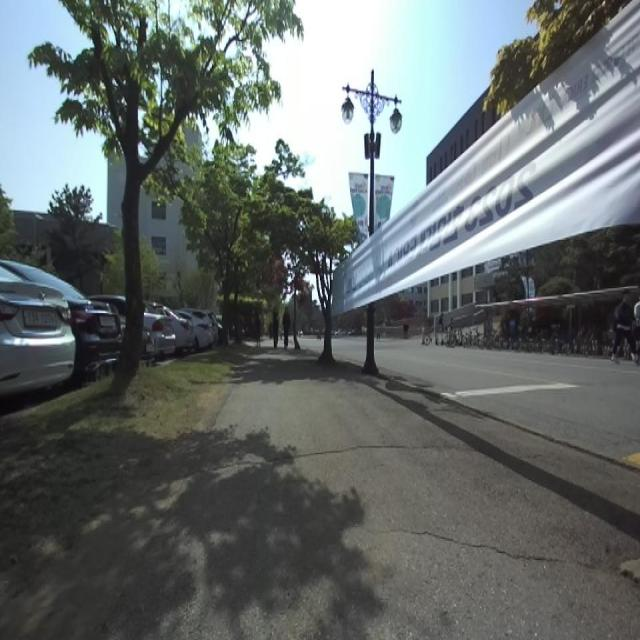sidewalk: (83, 355, 640, 638)
